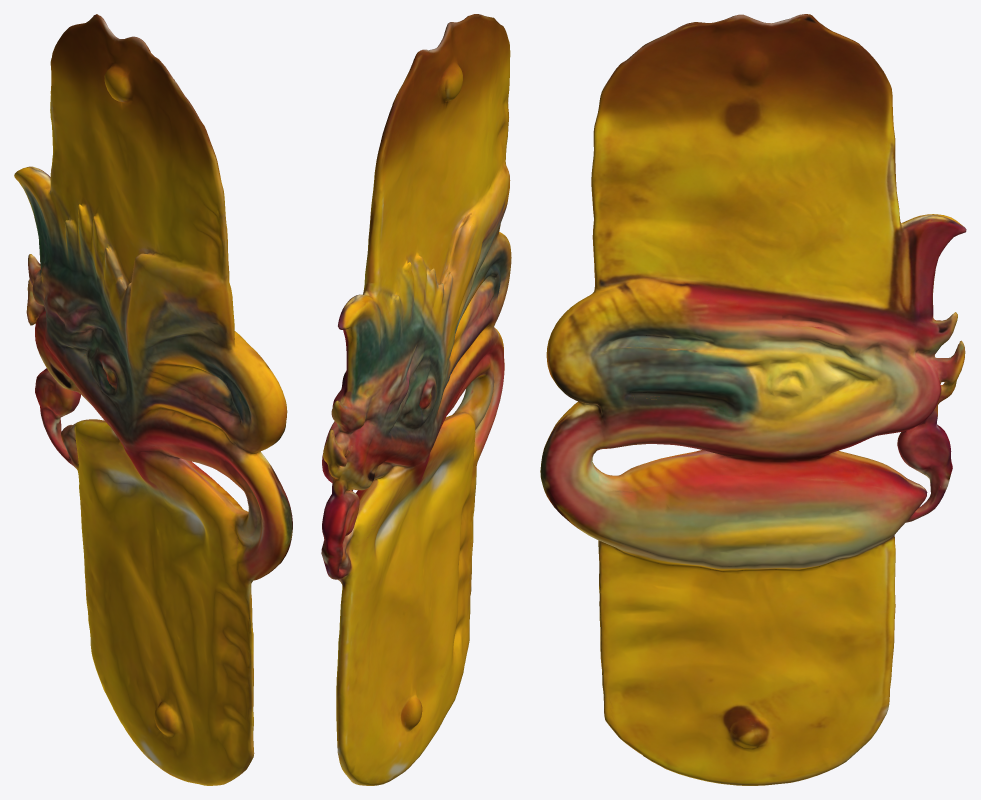
The model's file is Wayang_kulit_puppet_a_1021105200.obj.
3 renders of one model, left to right at view 1: azimuth 30°, elevation 25°; view 2: azimuth 150°, elevation 25°; view 3: azimuth 270°, elevation 25°, orthographic.
Visible parts, largest first — view 1: Mesh_0; view 2: Mesh_0; view 3: Mesh_0.
Part boxes in pixels (<box>): Mesh_0: <box>14,14,292,785</box>; Mesh_0: <box>321,14,511,785</box>; Mesh_0: <box>540,14,966,785</box>.
Size of the model in its own units: 0.2395 by 2 by 1.03.
1 material, 1 textured.
